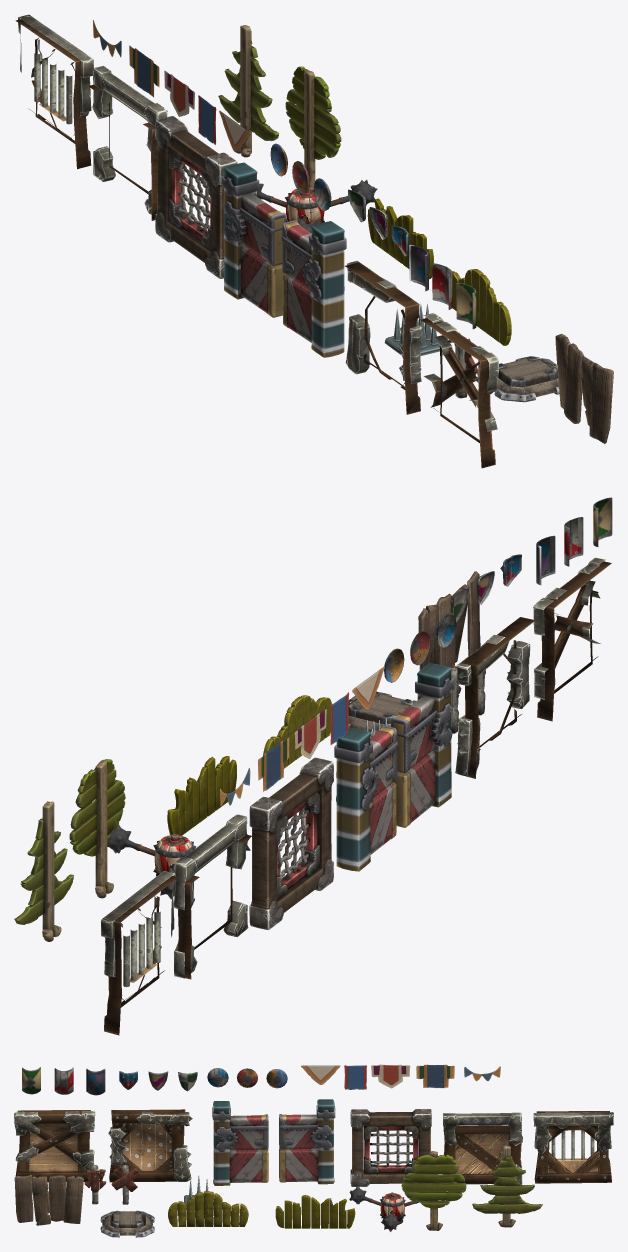
The picture shows the model from 3 angles, top to bottom: view 1: azimuth 30°, elevation 25°; view 2: azimuth 150°, elevation 25°; view 3: azimuth 270°, elevation 25°; orthographic projection. The views are drawn at different scales.
Parts seen in each view (by area): view 1: Platform1_polySurface1, Gate_Collumns, Gate_Gate2, Tree_Post2_polySurface1_Tree_Post2_Tree_Post2_Tree_Post2_Tre, Platforms1234_total_Mesh, Tree_Post_Tree, Gate_Gate, Platforms1234_total_Mesh1, Platforms1234_total_Base4, Platforms1234_total_Base3, Bush_Walls_BushWall2, Platforms1234_total_Mesh2 (+24 smaller); view 2: Platform1_polySurface1, Gate_Collumns, Platforms1234_total_Mesh, Tree_Post2_polySurface1_Tree_Post2_Tree_Post2_Tree_Post2_Tre, Gate_Gate2, Bush_Walls_BushWall1, Platforms1234_total_Mesh1, Tree_Post_Tree, Gate_Gate, Platforms1234_total_Base3, Platforms1234_total_Base4, Platforms1234_total_Mesh2 (+20 smaller); view 3: Platform1_polySurface1, Platforms1234_total_Base4, Platforms1234_total_Mesh2, Platforms1234_total_Base1, Platforms1234_total_Base3, Gate_Gate2, Tree_Post_Tree, Tree_Post2_polySurface1_Tree_Post2_Tree_Post2_Tree_Post2_Tre, Bush_Walls_BushWall2, Gate_Collumns, Bush_Walls_BushWall1, Gate_Gate (+34 smaller).
Part boxes in pixels (<box>): Platform1_polySurface1: <box>155,116,237,278</box>; Gate_Collumns: <box>224,162,344,357</box>; Gate_Gate2: <box>240,245,311,342</box>; Tree_Post2_polySurface1_Tree_Post2_Tree_Post2_Tree_Post2_Tre: <box>218,25,279,157</box>; Platforms1234_total_Mesh: <box>92,65,167,214</box>; Tree_Post_Tree: <box>285,66,341,159</box>; Gate_Gate: <box>241,193,311,288</box>; Platforms1234_total_Mesh1: <box>345,260,421,383</box>; Platforms1234_total_Base4: <box>345,262,420,414</box>; Platforms1234_total_Base3: <box>420,318,495,468</box>; Bush_Walls_BushWall2: <box>452,269,511,345</box>; Platforms1234_total_Mesh2: <box>18,14,93,143</box>; Platform1_polySurface1: <box>249,757,333,929</box>; Gate_Collumns: <box>336,663,451,871</box>; Platforms1234_total_Mesh: <box>173,814,248,978</box>; Tree_Post2_polySurface1_Tree_Post2_Tree_Post2_Tree_Post2_Tre: <box>14,801,73,941</box>; Gate_Gate2: <box>370,750,435,854</box>; Bush_Walls_BushWall1: <box>167,756,236,835</box>; Platforms1234_total_Mesh1: <box>455,634,530,776</box>; Tree_Post_Tree: <box>69,759,125,856</box>; Gate_Gate: <box>370,696,434,797</box>; Platforms1234_total_Base3: <box>537,561,611,721</box>; Platforms1234_total_Base4: <box>461,617,535,778</box>; Platforms1234_total_Mesh2: <box>100,871,175,1003</box>; Platform1_polySurface1: <box>350,1109,431,1186</box>; Platforms1234_total_Base4: <box>109,1109,185,1182</box>; Platforms1234_total_Mesh2: <box>533,1112,613,1174</box>; Platforms1234_total_Base1: <box>443,1125,521,1184</box>; Platforms1234_total_Base3: <box>15,1110,90,1182</box>; Gate_Gate2: <box>229,1148,318,1182</box>; Tree_Post_Tree: <box>401,1154,466,1208</box>; Tree_Post2_polySurface1_Tree_Post2_Tree_Post2_Tree_Post2_Tre: <box>472,1145,542,1227</box>; Bush_Walls_BushWall2: <box>168,1191,248,1226</box>; Gate_Collumns: <box>213,1099,334,1185</box>; Bush_Walls_BushWall1: <box>275,1195,355,1228</box>; Gate_Gate: <box>229,1114,318,1149</box>.
Bounding box in the file's own units: 194 × 173 × 791.
Materials: 18 (18 with a texture image).
